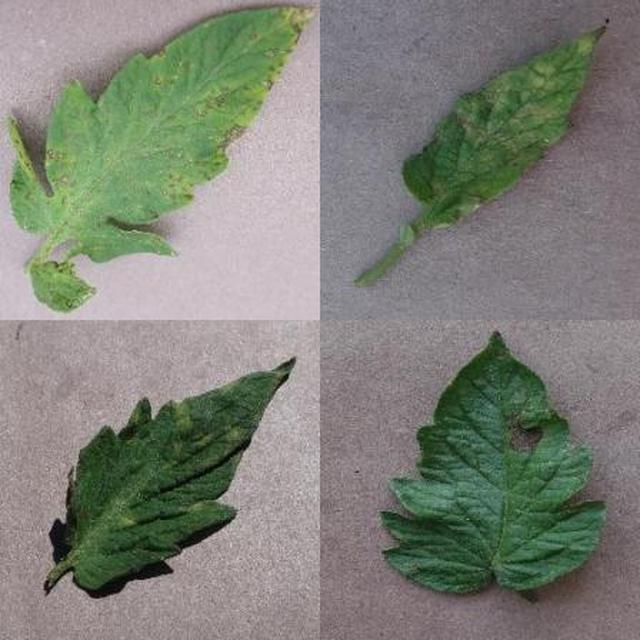Septoria Leaf: (231, 183, 640, 640)
